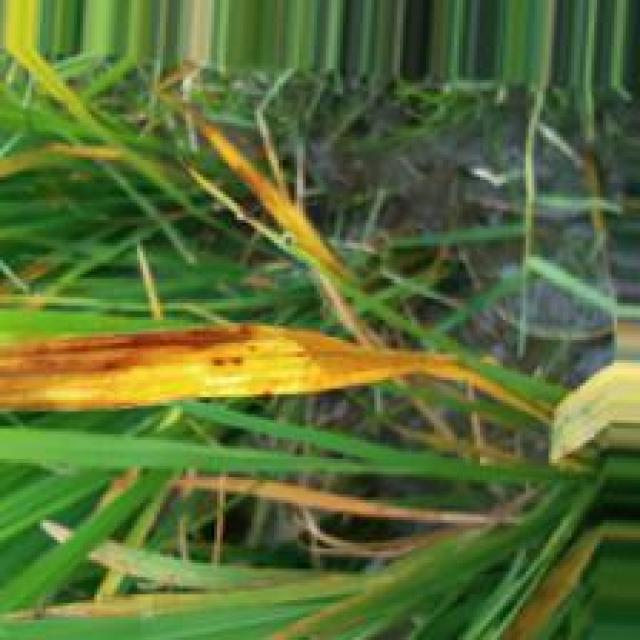Rice False Smut: (0, 322, 264, 410), (266, 323, 445, 392), (205, 352, 248, 370)
